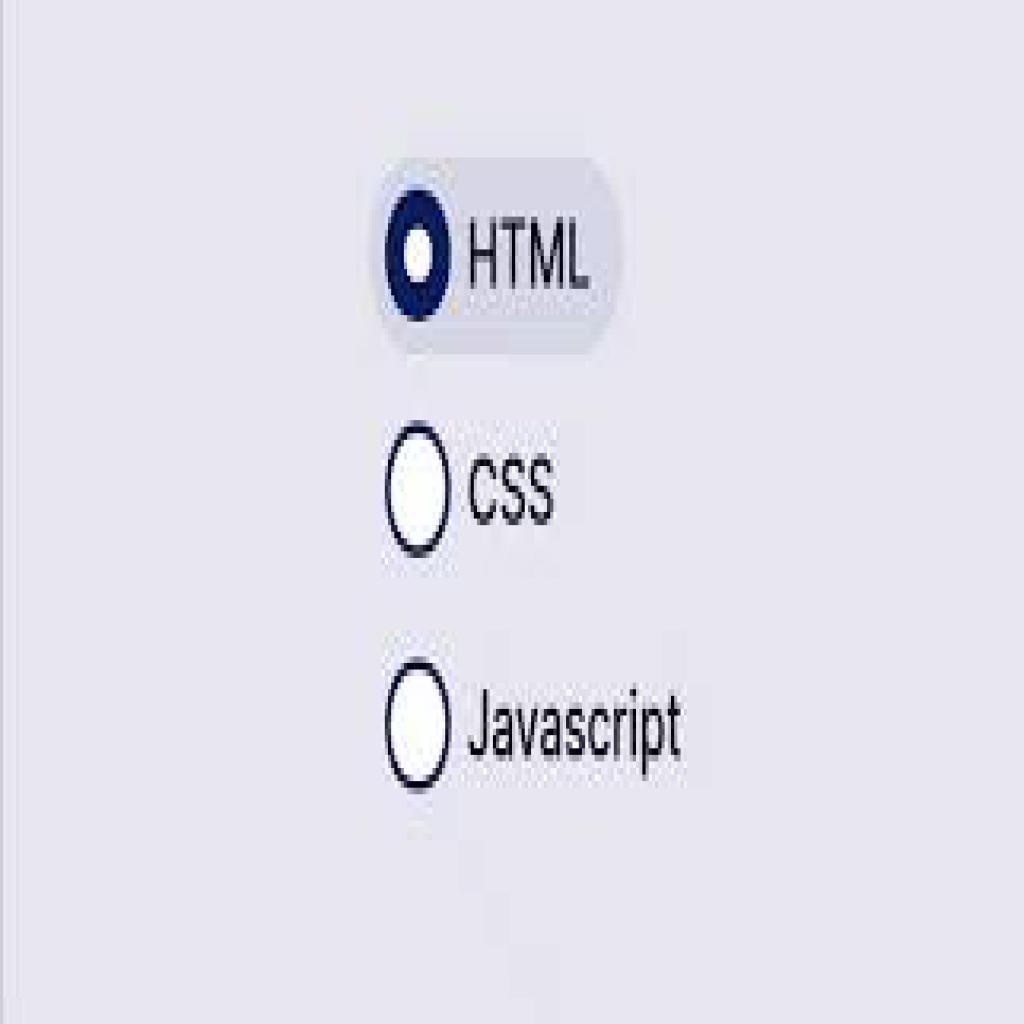label: (464, 684, 689, 786), (467, 211, 600, 292), (467, 450, 563, 533)
radio: (383, 652, 457, 799), (388, 173, 452, 333), (386, 412, 453, 563)
